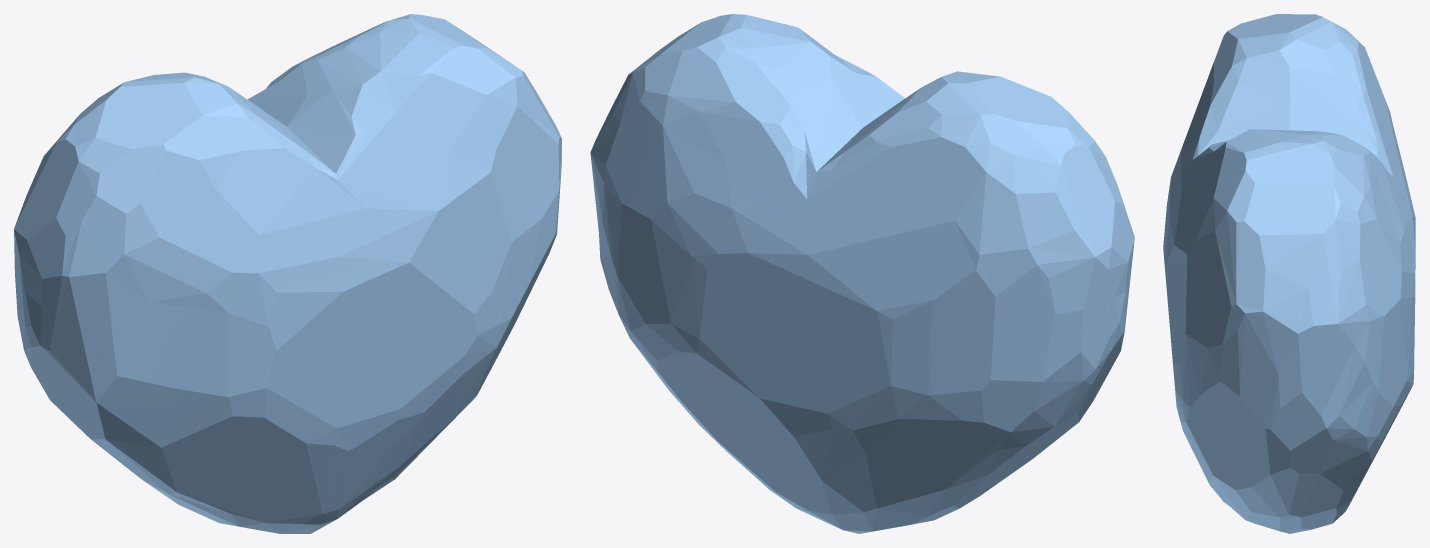
Rendered from heart.fbx.
3 renders of one model, left to right at view 1: azimuth 30°, elevation 25°; view 2: azimuth 150°, elevation 25°; view 3: azimuth 270°, elevation 25°, orthographic. The views are drawn at different scales.
Visible parts, largest first — view 1: Crystal_Heart; view 2: Crystal_Heart; view 3: Crystal_Heart.
Boxes of the visible parts, x1,y1,x2,y2 form: Crystal_Heart: (14,14,561,533); Crystal_Heart: (590,14,1134,533); Crystal_Heart: (1163,14,1415,533).
Bounding box in the file's own units: 116 × 99.9 × 51.79.
